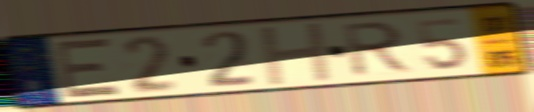2: (119, 33, 181, 96), (199, 29, 257, 90)
5: (413, 16, 471, 72)
E: (54, 36, 124, 101)
H: (255, 20, 337, 89)
R: (341, 19, 415, 80)
